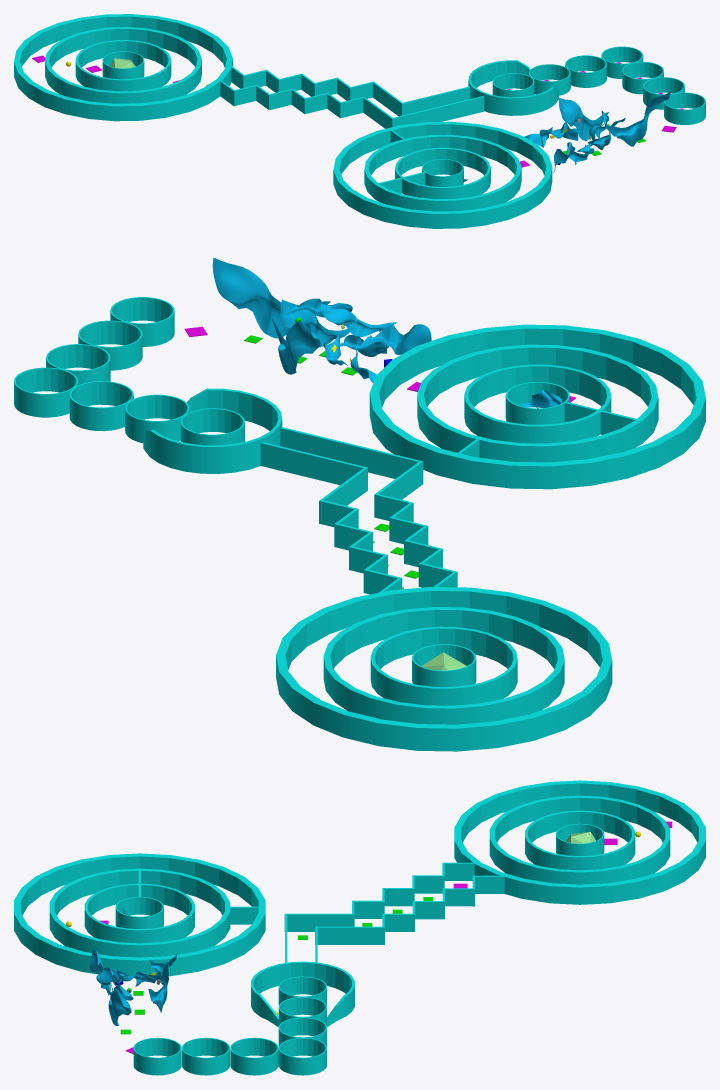
The model's file is Level_Design_002.fbx.
The picture shows the model from 3 angles, top to bottom: view 1: azimuth 30°, elevation 25°; view 2: azimuth 150°, elevation 25°; view 3: azimuth 270°, elevation 25°; orthographic projection. The views are drawn at different scales.
Visible parts, largest first — view 1: SM_Wall_Cylinder16, SM_Wall_Cylinder12, SM_Wall_Cylinder3, SM_Wall_Cylinder15, SM_Wall6 (×5), SM_Wall_Cylinder14, SM_Wall_Cylinder1, SM_Wall_Cylinder11, SM_Wall_Cylinder4, SM_Wall_Cylinder8, SM_Wall_Cylinder, SM_Wall_Cylinder9 (+10 smaller); view 2: SM_Wall_Cylinder16, SM_Wall_Cylinder12, SM_Wall_Cylinder15, SM_Wall_Cylinder3, SM_Wall_Cylinder14, SM_Wall_Cylinder1, SM_Wall_Cylinder11, pPlane15, SM_Wall6, SM_Wall_Cylinder7, SM_Wall_Cylinder8, SM_Wall_Cylinder9 (+13 smaller); view 3: SM_Wall_Cylinder16, SM_Wall_Cylinder12, SM_Wall_Cylinder15, SM_Wall_Cylinder3, SM_Wall_Cylinder14, SM_Wall_Cylinder1, SM_Wall4 (×5), SM_Wall3 (×5), SM_Wall_Cylinder11, SM_Wall_Cylinder6, SM_Wall_Cylinder4, SM_Wall_Cylinder7 (+9 smaller).
Boxes of the visible parts, x1,y1,x2,y2 form: SM_Wall_Cylinder16: (14,14,232,121); SM_Wall_Cylinder12: (333,121,552,228); SM_Wall_Cylinder3: (364,134,521,211); SM_Wall_Cylinder15: (45,27,201,103); SM_Wall6 (×5): (233,85,484,126); SM_Wall_Cylinder14: (75,40,171,91); SM_Wall_Cylinder1: (395,147,490,199); SM_Wall_Cylinder11: (468,60,558,115); SM_Wall_Cylinder4: (664,92,705,124); SM_Wall_Cylinder8: (565,55,606,87); SM_Wall_Cylinder: (422,159,463,186); SM_Wall_Cylinder9: (529,64,570,95); SM_Wall_Cylinder16: (276,587,612,751); SM_Wall_Cylinder12: (369,324,705,489); SM_Wall_Cylinder15: (323,607,564,724); SM_Wall_Cylinder3: (417,344,658,462); SM_Wall_Cylinder14: (370,626,517,705); SM_Wall_Cylinder1: (464,364,611,443); SM_Wall_Cylinder11: (143,388,282,473); pPlane15: (212,258,330,338); SM_Wall6: (280,427,421,478); SM_Wall_Cylinder7: (14,367,78,417); SM_Wall_Cylinder8: (69,381,133,431); SM_Wall_Cylinder9: (125,394,189,442); SM_Wall_Cylinder16: (454,780,705,904); SM_Wall_Cylinder12: (14,853,265,976); SM_Wall_Cylinder15: (489,795,670,884); SM_Wall_Cylinder3: (49,868,230,957); SM_Wall_Cylinder14: (525,810,635,870); SM_Wall_Cylinder1: (84,883,194,943); SM_Wall4 (×5): (315,875,504,944); SM_Wall3 (×5): (284,862,474,931); SM_Wall_Cylinder11: (251,961,354,1027); SM_Wall_Cylinder6: (230,1037,278,1075); SM_Wall_Cylinder4: (133,1037,181,1075); SM_Wall_Cylinder7: (278,1037,326,1075).
Size of the model in its own units: 271 by 31.29 by 285.
